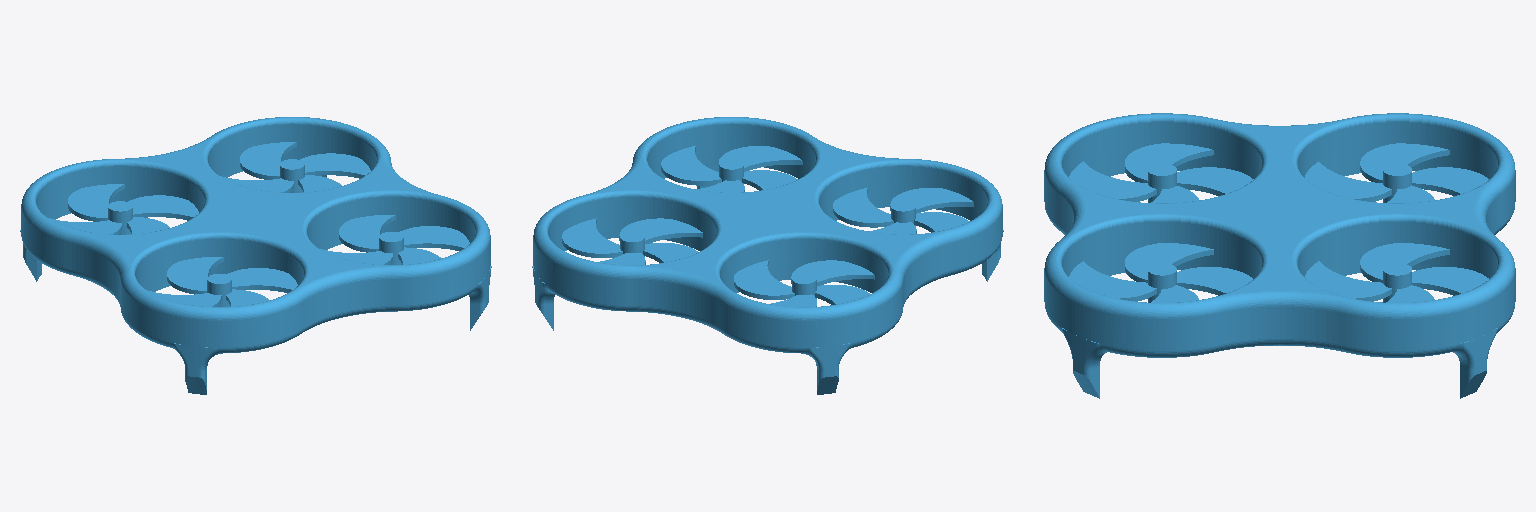
The robot description file, URDF, robot "drone_custom":
<?xml version='1.0'?>

<robot name="drone_custom" xmlns:xacro="http://www.ros.org/wiki/xacro">

  
  <link name="base_footprint"></link>

    <!-- STEP 2 - Drone Body = base_link -->
  <joint name="base_footprint_joint" type="fixed">
    <origin xyz="0 0 0" rpy="0 0 0" />
    <parent link="base_footprint"/>
    <child link="base_link" />
  </joint>

  <link name='base_link'>
    <pose>0 0 0.1 0 0 0</pose>

    <inertial>
      <mass value="15.0"/>
      <origin xyz="0.0 0 0" rpy=" 0 0 0"/>
      <inertia
          ixx="0.0625" ixy="0" ixz="0"
          iyy="0.2125" iyz="0"
          izz="0.25"
      />
    </inertial>

    <collision name='collision'>
      <origin xyz="0 0 0" rpy=" 0 0 0"/> 
      <geometry>
        <box size=".4 .2 .1"/>
      </geometry>
    </collision>

    <visual name='base_link_visual'>
      <origin xyz="0 0 0" rpy=" 0 0 0"/>
      <geometry>
        <mesh filename = "package://drone_basic_py/meshes/drone_model_basic.dae"/>
        <!-- <box size=".4 .2 .1"/> -->
      </geometry>
      <!-- <material name="orange"/> -->
    </visual>

    </link>



  <!-- STEP 6 - Gazebo frictions and colors -->
  <!-- <gazebo reference="left_wheel">
    <mu1>0.2</mu1>
    <mu2>0.2</mu2>
    <kp>1000000.0</kp>
    <kd>100.0</kd>
    <minDepth>0.0001</minDepth>
    <maxVel>1.0</maxVel>
  </gazebo>

  <gazebo reference="right_wheel">
    <mu1>0.2</mu1>
    <mu2>0.2</mu2>
    <kp>1000000.0</kp>
    <kd>100.0</kd>
    <minDepth>0.0001</minDepth>
    <maxVel>1.0</maxVel>
  </gazebo>

  <gazebo reference="base_link">
    <mu1>0.000002</mu1>
    <mu2>0.000002</mu2>
  </gazebo> -->

</robot>

--- Facts derived from the render (not from the file) ---
The picture shows the robot from 3 angles, left to right: view 1: azimuth 30°, elevation 25°; view 2: azimuth 150°, elevation 25°; view 3: azimuth 270°, elevation 25°; orthographic projection.
Model drone_custom with 2 links and 1 joints (1 fixed), rooted at base_footprint, posed all joints at 0.
Visible links, largest first — view 1: base_link; view 2: base_link; view 3: base_link.
Link boxes in pixels (x1=…): base_link: x1=20, y1=117, x2=491, y2=394; base_link: x1=532, y1=117, x2=1003, y2=394; base_link: x1=1044, y1=113, x2=1515, y2=398.
Size in the robot's own frame: 0.4 by 0.4 by 0.1 metres.
1 mesh visuals loaded from 1 distinct referenced files (1 Collada DAE).
